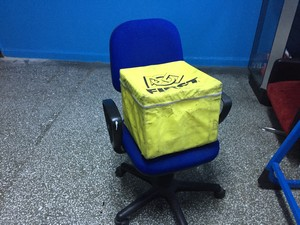cube: (119, 60, 220, 161)
